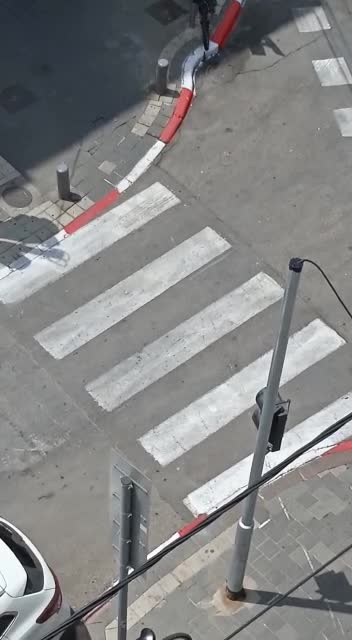crosswalk: (10, 179, 346, 512)
